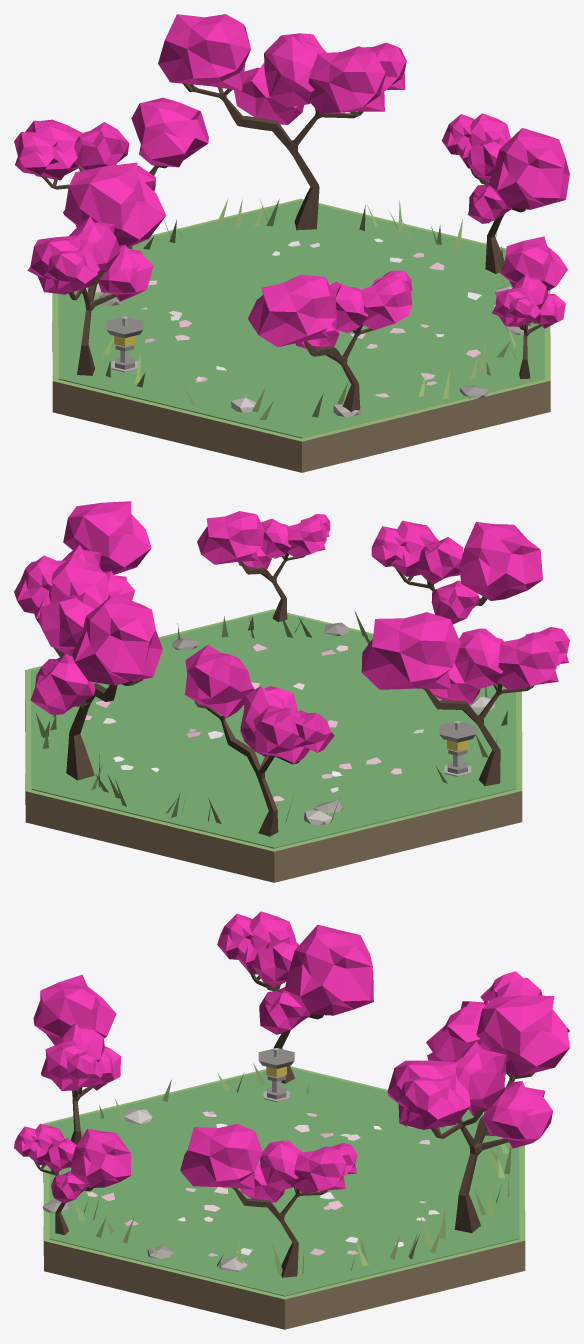
File: sakura_keystone_sprint3.glb
3 renders of one model, top to bottom at view 1: azimuth 30°, elevation 25°; view 2: azimuth 150°, elevation 25°; view 3: azimuth 270°, elevation 25°, orthographic. The views are drawn at different scales.
Visible parts, largest first — view 1: GrassTerrain, HexBase, Icosphere.005, Icosphere.010, Icosphere.025, Icosphere.020, Icosphere.007, Icosphere, Icosphere.008, Cube.001, Icosphere.015, Icosphere.022 (+22 smaller); view 2: GrassTerrain, HexBase, Icosphere.010, Icosphere.005, Icosphere.020, Icosphere.025, Icosphere, Icosphere.012, Icosphere.015, Icosphere.009, Icosphere.008, Icosphere.013 (+19 smaller); view 3: GrassTerrain, HexBase, Icosphere.010, Icosphere.005, Icosphere.025, Icosphere.020, Icosphere.009, Icosphere.015, Icosphere.008, Icosphere.006, Cube.001, Icosphere.007 (+20 smaller).
Part boxes in pixels (x1,y1,x2,y2): GrassTerrain: (58,200,544,438); HexBase: (52,198,550,472); Icosphere.005: (158,14,250,90); Icosphere.010: (63,162,166,247); Icosphere.025: (488,128,569,209); Icosphere.020: (248,274,336,347); Icosphere.007: (308,46,385,114); Icosphere: (131,97,208,167); Icosphere.008: (264,33,326,107); Cube.001: (183,83,363,230); Icosphere.015: (500,236,567,290); Icosphere.022: (359,277,412,330); GrassTerrain: (31,611,516,848); HexBase: (25,609,522,882); Icosphere.010: (361,612,460,689); Icosphere.005: (71,594,162,685); Icosphere.020: (459,522,542,600); Icosphere.025: (63,501,151,574); Icosphere: (184,644,254,718); Icosphere.012: (497,632,559,690); Icosphere.015: (197,511,264,564); Icosphere.009: (30,654,95,714); Icosphere.008: (39,592,99,654); Icosphere.013: (454,628,503,688); GrassTerrain: (49,1068,519,1296); HexBase: (43,1066,525,1329); Icosphere.010: (284,924,373,1015); Icosphere.005: (476,995,569,1076); Icosphere.025: (180,1124,262,1189); Icosphere.020: (33,974,116,1045); Icosphere.009: (483,1081,552,1148); Icosphere.015: (71,1128,130,1187); Icosphere.008: (452,1041,506,1116); Icosphere.006: (398,1077,459,1127); Cube.001: (431,1072,534,1233); Icosphere.007: (387,1060,470,1129).
Size of the model in its own units: 5.28 by 2.26 by 5.
